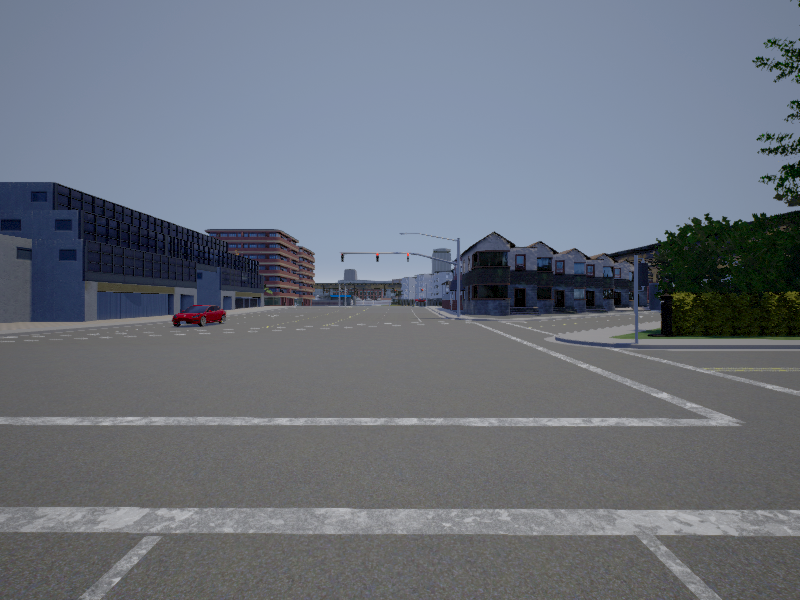Attacker: (414, 297, 427, 305)
Benign: (172, 304, 226, 327)
